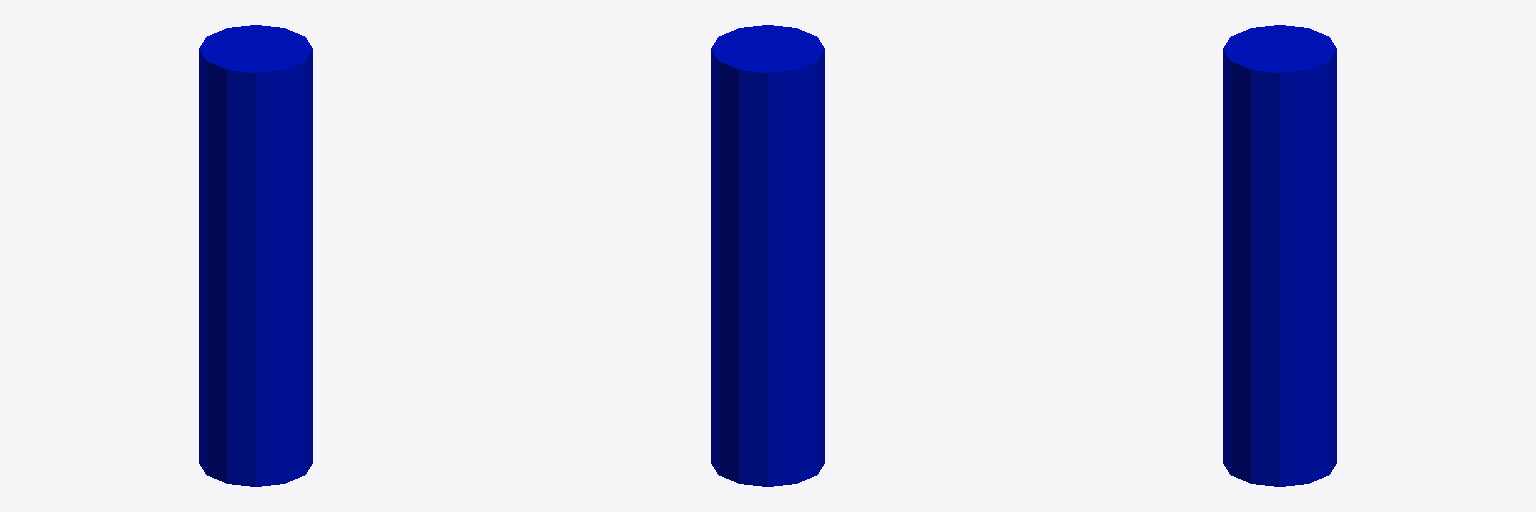
File: PLAIN_ROUND.obj
3 views of the same model, side by side, from view 1: azimuth 30°, elevation 25°; view 2: azimuth 150°, elevation 25°; view 3: azimuth 270°, elevation 25° (orthographic).
Parts seen in each view (by area): view 1: Cube.007; view 2: Cube.007; view 3: Cube.007.
Part boxes in pixels (x1,y1,x2,y2): Cube.007: (199, 25, 312, 486); Cube.007: (711, 25, 824, 486); Cube.007: (1223, 25, 1336, 486).
Size of the model in its own units: 2 by 8 by 2.